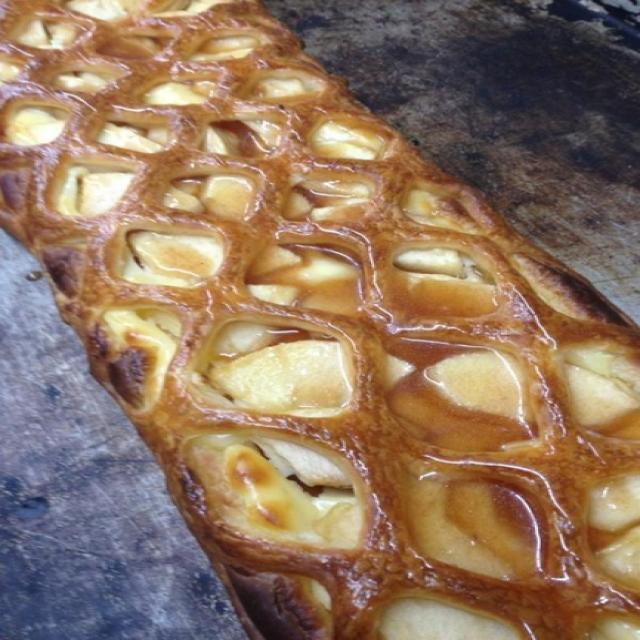Apple: (6, 6, 640, 622)
